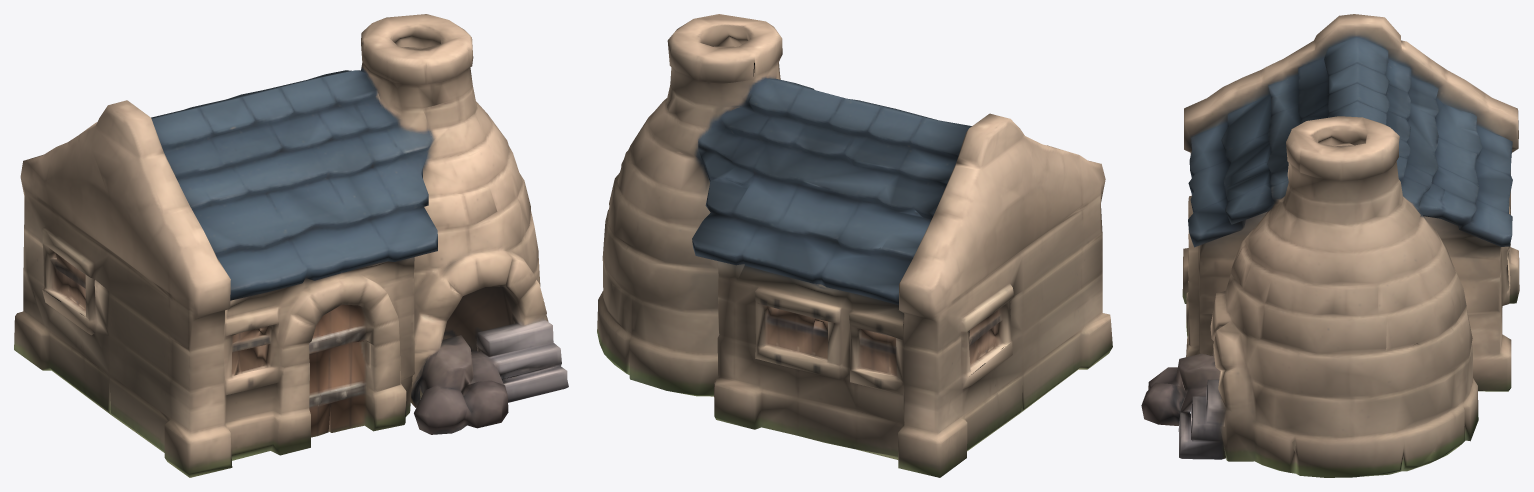
The model's file is smelter.glb.
The picture shows the model from 3 angles, left to right: view 1: azimuth 30°, elevation 25°; view 2: azimuth 150°, elevation 25°; view 3: azimuth 270°, elevation 25°; orthographic projection. The views are drawn at different scales.
Parts seen in each view (by area): view 1: geometry_0.001; view 2: geometry_0.001; view 3: geometry_0.001.
Boxes of the visible parts, left/top/right/bottom form: geometry_0.001: left=14, top=14, right=568, bottom=477; geometry_0.001: left=597, top=14, right=1112, bottom=477; geometry_0.001: left=1141, top=14, right=1519, bottom=477.
Bounding box in the file's own units: 1.99 × 1.39 × 1.62.
1 material, 1 textured.
